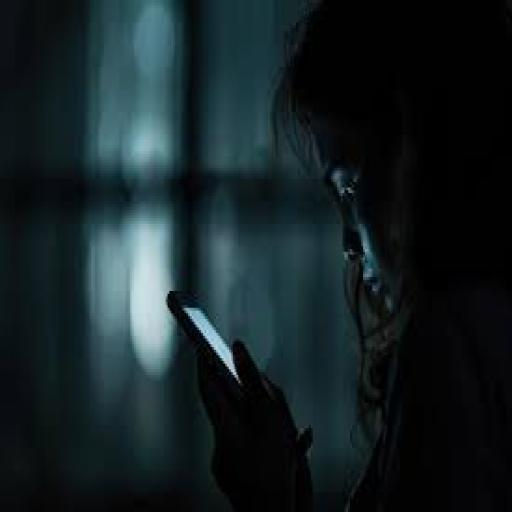phone: (160, 284, 323, 478)
